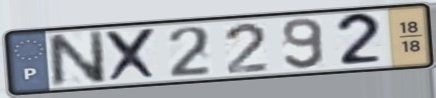2: (330, 11, 391, 71), (222, 21, 272, 76), (166, 25, 214, 80)
9: (280, 17, 325, 71)
N: (43, 28, 109, 90)
X: (103, 26, 162, 85)
